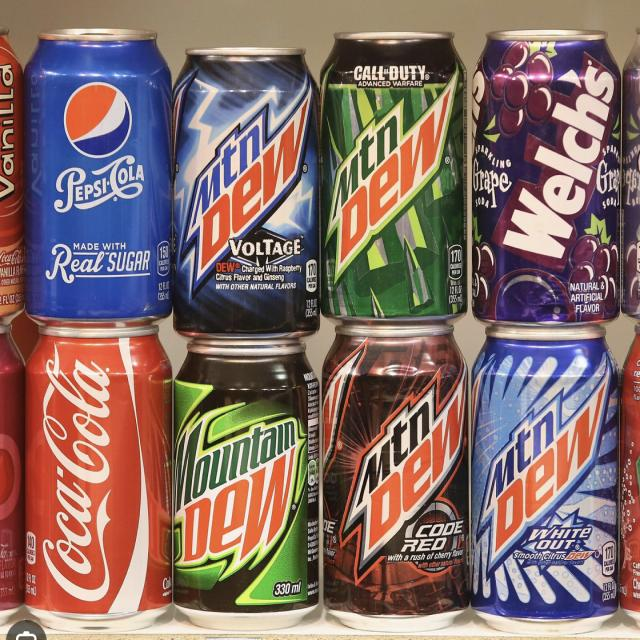recyclable: (2, 317, 175, 625), (6, 16, 175, 326), (160, 14, 323, 335), (319, 321, 473, 634), (319, 14, 472, 320), (172, 326, 324, 634), (464, 331, 615, 630), (470, 16, 620, 316)
